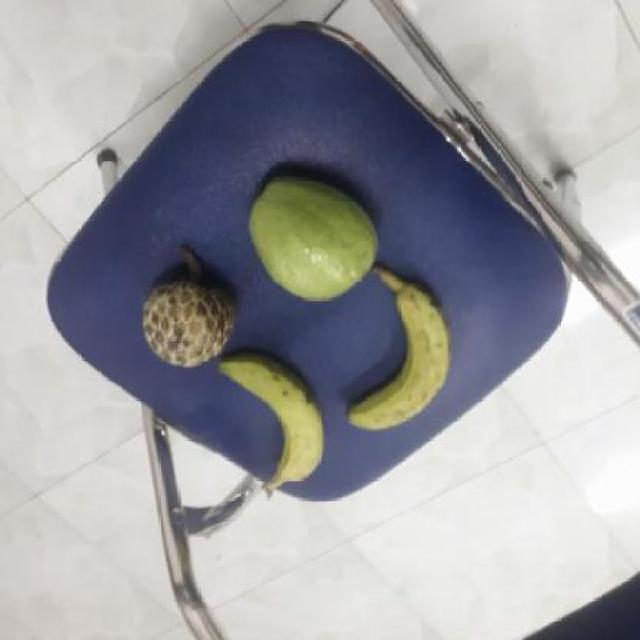banana: (345, 285, 457, 432), (218, 354, 332, 489)
guava: (248, 175, 383, 299)
sugar apple: (140, 262, 238, 366)
